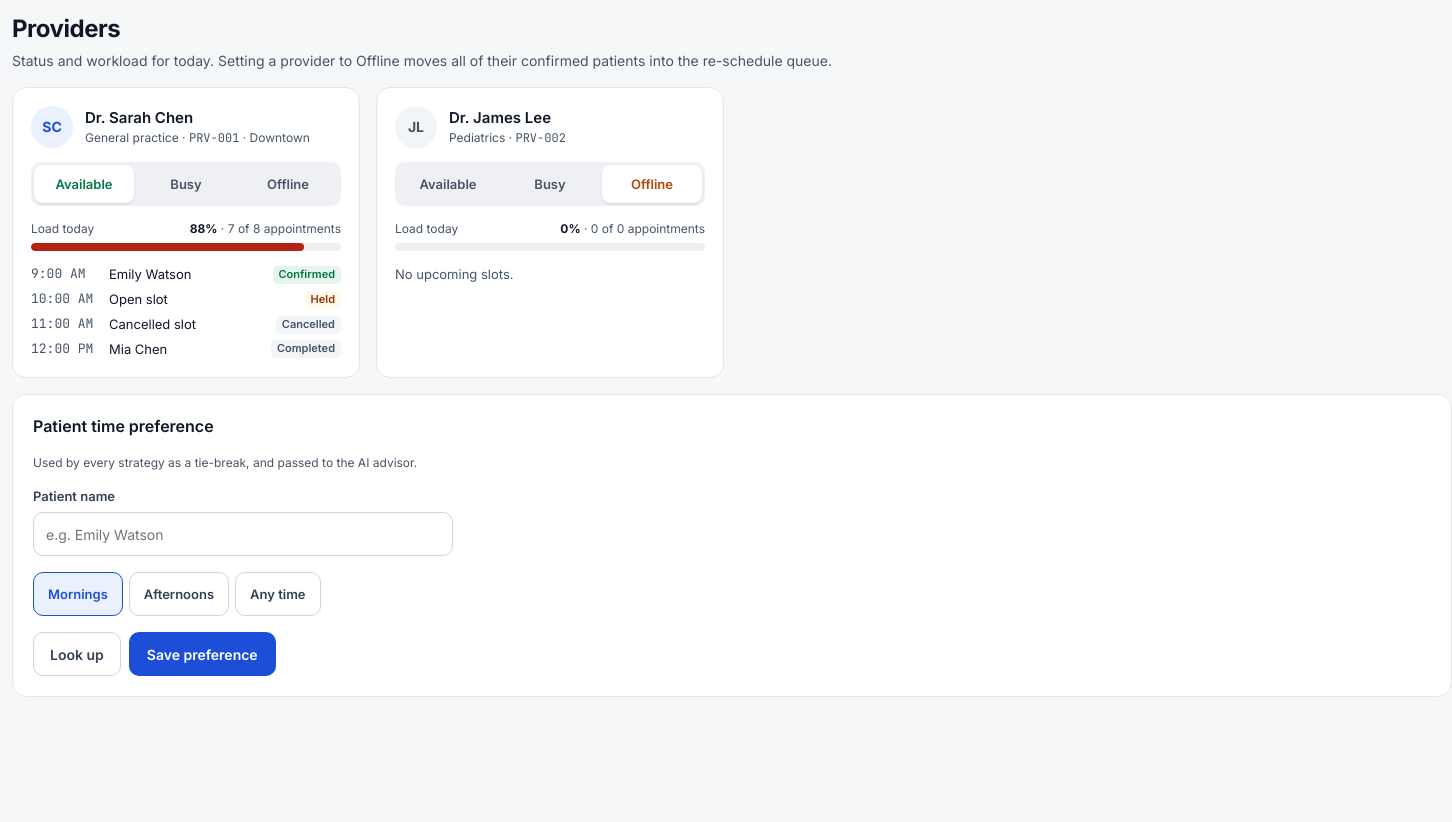
Test: PreferenceEditor › shows the lookup error
Type "Zed" into the field labelled "Patient name". click: point(243, 534)
box: [33,512,453,556]
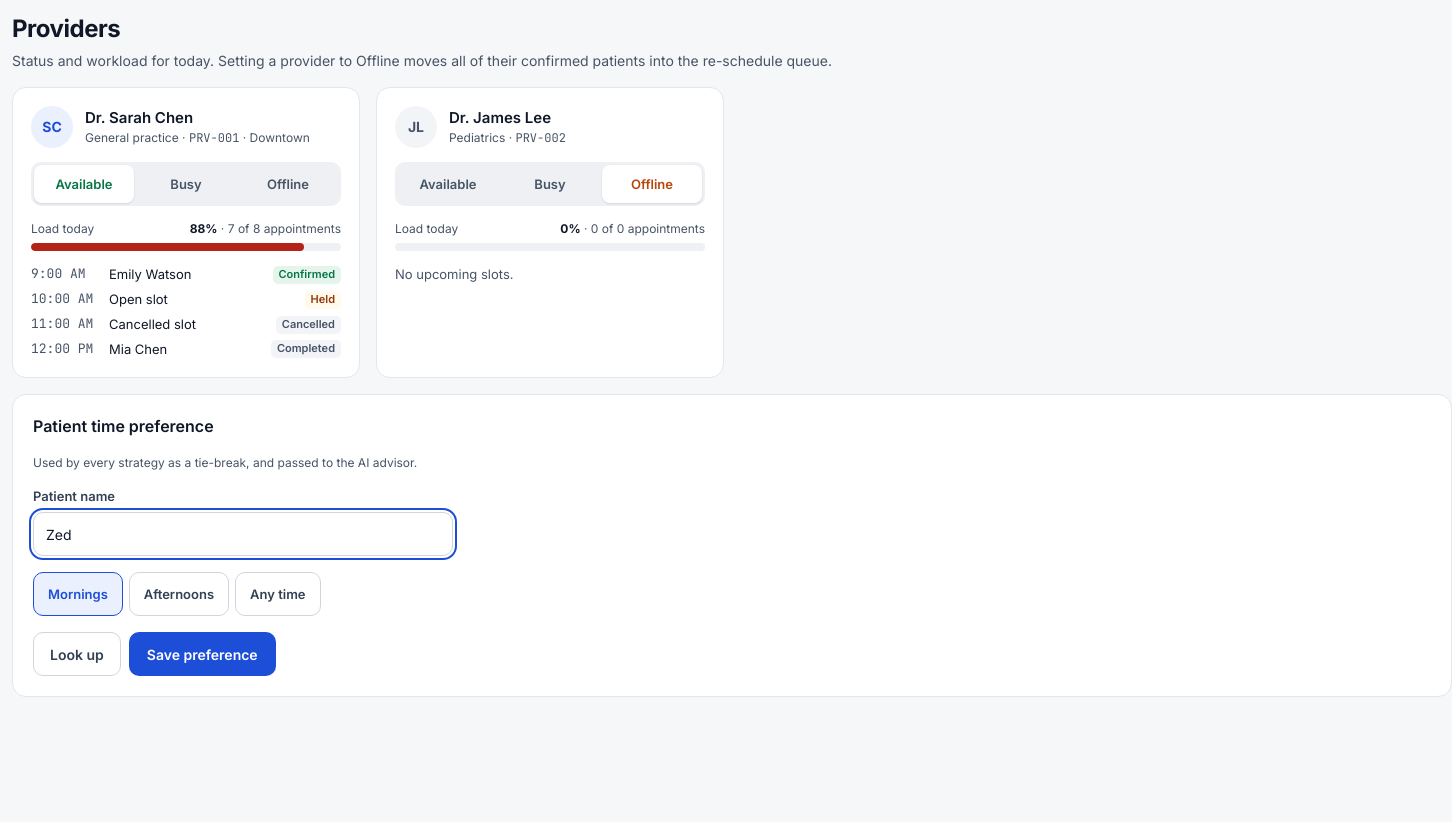
Click the button "Look up". click: point(77, 654)
box: [33,632,121,676]
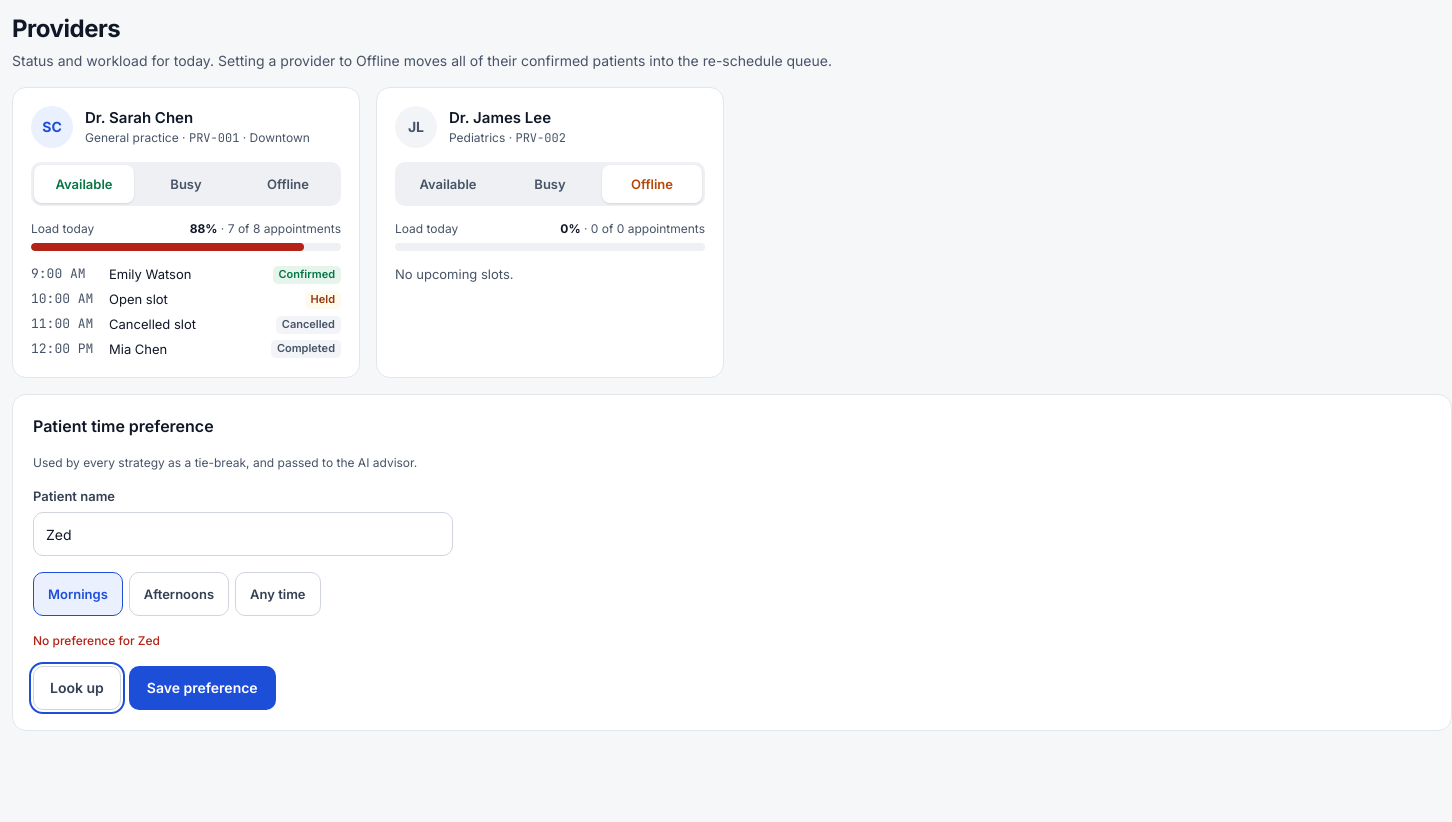
Expected: the message reads "No preference for Zed", [33,633,160,648]
